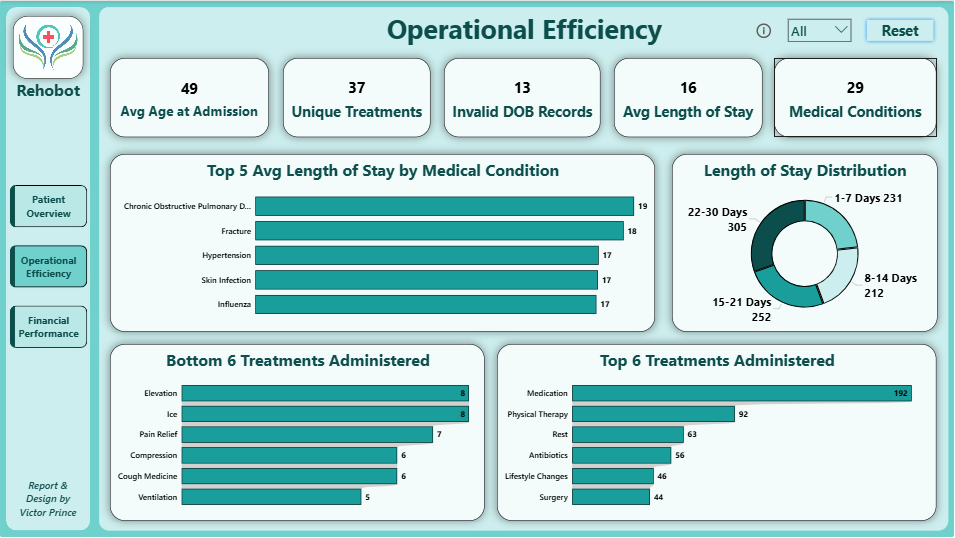

What the dashboard file says about the page in this screenshot:
{"tool":"powerbi","page":{"name":"Operational Efficiency","canvas":[1920,1080],"ordinal":1},"visuals":[{"type":"shape","title":"Operational Efficiency","box":[200.3,14.5,1705.3,1050.8],"z":0},{"type":"shape","box":[14.5,14.5,169.3,1050.8],"z":1000},{"type":"image","box":[29,33.1,140.7,126.2],"z":2000},{"type":"actionButton","box":[1733.8,33.1,149,57.9],"z":3000},{"type":"textbox","title":"Rehobot","box":[29,159.3,140.7,70.3],"z":5000},{"type":"textbox","title":"Report & Design by Victor Prince","box":[29,960,140.7,86.9],"z":6000},{"type":"pageNavigator","box":[14.5,364.1,171.7,343.4],"z":7000},{"type":"card","fields":{"Values":["_Measures.Avg Length of Stay"]},"box":[1233.8,115.7,297.6,159.1],"z":8000},{"type":"card","fields":{"Values":["_Measures.Avg Age at Admission"]},"box":[223.4,115.9,318.6,159.3],"z":9000},{"type":"card","fields":{"Values":["Count(Hospital_Records_Clean.Treatments)"]},"box":[571,115.9,295.9,159.3],"z":10000},{"type":"card","fields":{"Values":["_Measures.DOB Anomaly Records"]},"box":[892.8,115.7,314.1,159.1],"z":11000},{"type":"card","fields":{"Values":["Count(Hospital_Records_Clean.Medical_Condition)"]},"box":[1556.6,115.6,326.2,159],"z":12000},{"type":"clusteredBarChart","title":"Top 5 Avg Length of Stay by Medical Condition","fields":{"Category":["Hospital_Records_Clean.Medical_Condition"],"Y":["_Measures.Avg Length of Stay"]},"box":[223,309.7,1094.2,357.2],"z":13000},{"type":"barChart","title":"Bottom 6 Treatments Administered","fields":{"Category":["Hospital_Records_Clean.Treatments"],"Y":["_Measures.Total Patients"]},"box":[223.2,690.3,752.3,355.5],"z":14000},{"type":"donutChart","title":"Length of Stay Distribution","fields":{"Category":["Hospital_Records_Clean.LOS Bucket"],"Y":["_Measures.Total Patients"]},"box":[1350.2,309.7,532.6,357.2],"z":15000},{"type":"barChart","title":"Top 6 Treatments Administered","fields":{"Category":["Hospital_Records_Clean.Treatments"],"Y":["_Measures.Total Patients"]},"box":[1000.3,690.3,882.5,355.5],"z":16000},{"type":"actionButton","box":[1515.4,41.3,41.3,39.2],"z":16001},{"type":"slicer","fields":{"Values":["Hospital_Records_Clean.Admit_Year"]},"box":[1573.2,28.9,146.6,57.8],"z":16002}]}

Visuals, with their boxes in screenshot pixels (x1, y1, x2, y2), scaled from the page's 1920x1080 canvas onto the 955x538 screenshot:
"Operational Efficiency" shape: x1=100 y1=7 x2=948 y2=531
shape: x1=7 y1=7 x2=91 y2=531
image: x1=14 y1=16 x2=84 y2=79
actionButton: x1=862 y1=16 x2=936 y2=45
"Rehobot" textbox: x1=14 y1=79 x2=84 y2=114
"Report & Design by Victor Prince" textbox: x1=14 y1=478 x2=84 y2=522
pageNavigator: x1=7 y1=181 x2=93 y2=352
card - _Measures.Avg Length of Stay: x1=614 y1=58 x2=762 y2=137
card - _Measures.Avg Age at Admission: x1=111 y1=58 x2=270 y2=137
card - Count(Hospital_Records_Clean.Treatments): x1=284 y1=58 x2=431 y2=137
card - _Measures.DOB Anomaly Records: x1=444 y1=58 x2=600 y2=137
card - Count(Hospital_Records_Clean.Medical_Condition): x1=774 y1=58 x2=936 y2=137
"Top 5 Avg Length of Stay by Medical Condition" clusteredBarChart: x1=111 y1=154 x2=655 y2=332
"Bottom 6 Treatments Administered" barChart: x1=111 y1=344 x2=485 y2=521
"Length of Stay Distribution" donutChart: x1=672 y1=154 x2=936 y2=332
"Top 6 Treatments Administered" barChart: x1=498 y1=344 x2=936 y2=521
actionButton: x1=754 y1=21 x2=774 y2=40
slicer - Hospital_Records_Clean.Admit_Year: x1=783 y1=14 x2=855 y2=43
